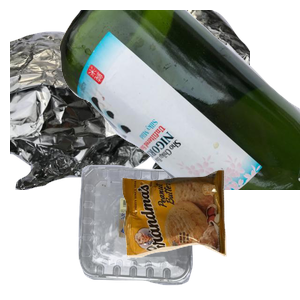glass: (60, 10, 300, 190)
metal: (10, 10, 250, 190)
plastic: (76, 162, 264, 300)
trash: (120, 168, 300, 300)
